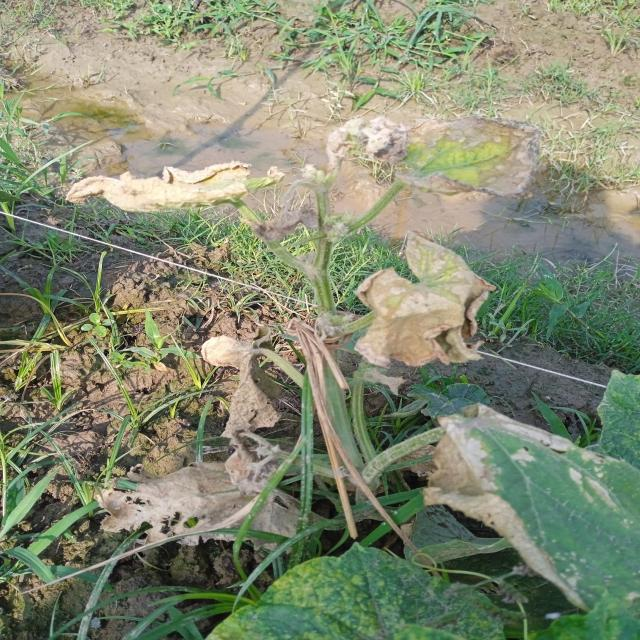cucumber_bacterial: (403, 398, 639, 640), (292, 60, 568, 200), (84, 432, 324, 576), (69, 128, 283, 273), (343, 232, 526, 377), (185, 314, 288, 434)
